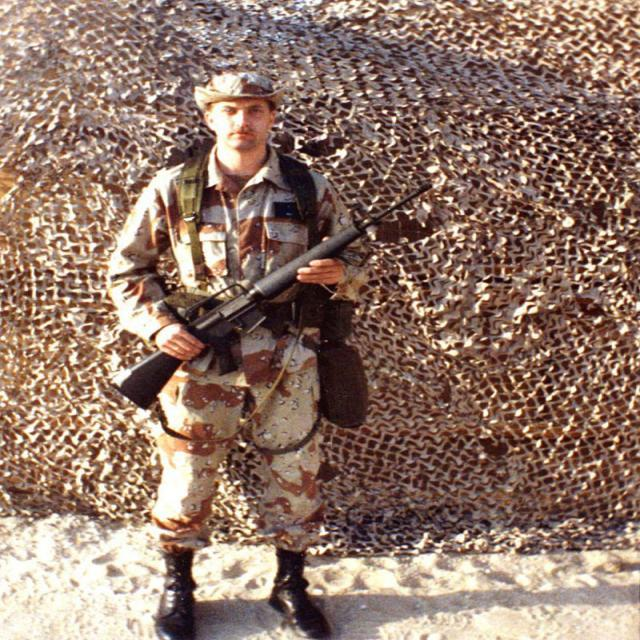weapon: (115, 180, 429, 408)
